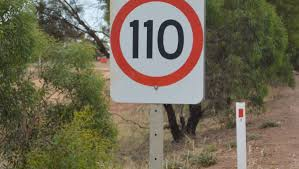Speed_limit_110km: (110, 1, 203, 85)
